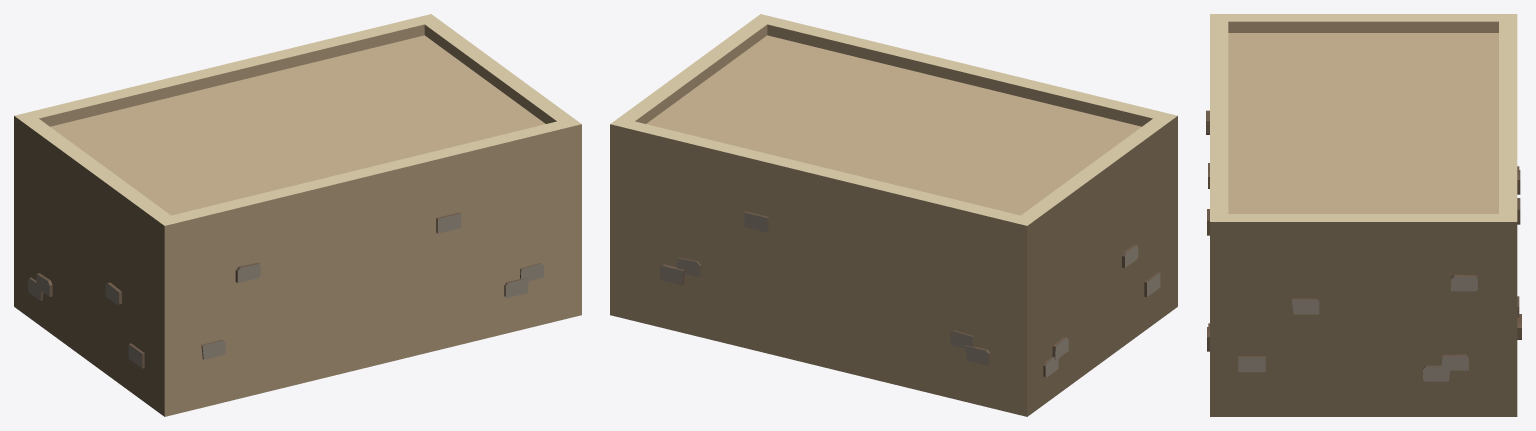
File: TB_D_Bd_Body_Wide.FBX
3 views of the same model, side by side, from view 1: azimuth 30°, elevation 25°; view 2: azimuth 150°, elevation 25°; view 3: azimuth 270°, elevation 25° (orthographic). The views are drawn at different scales.
Parts seen in each view (by area): view 1: TB_D_Bd_Body_Wide; view 2: TB_D_Bd_Body_Wide; view 3: TB_D_Bd_Body_Wide.
Boxes of the visible parts, x1,y1,x2,y2 form: TB_D_Bd_Body_Wide: [14, 14, 581, 416]; TB_D_Bd_Body_Wide: [610, 14, 1177, 416]; TB_D_Bd_Body_Wide: [1206, 14, 1521, 416].
Bounding box in the file's own units: 8.12 × 3.5 × 5.14.
